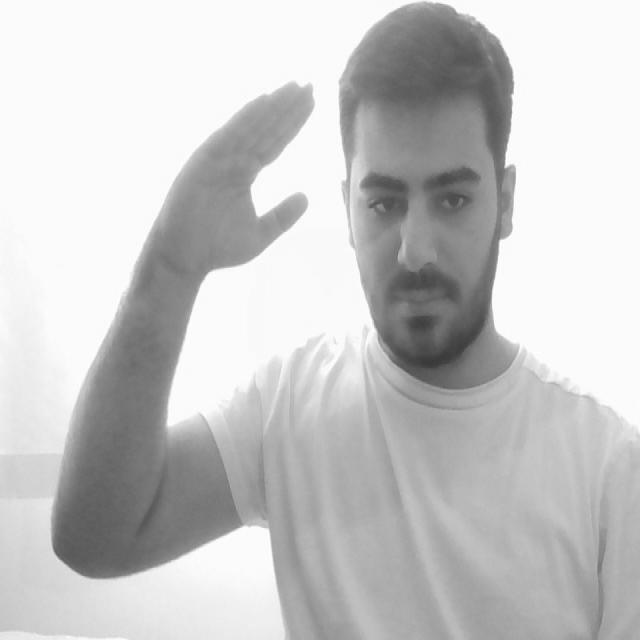Merhaba: (146, 57, 389, 330)
